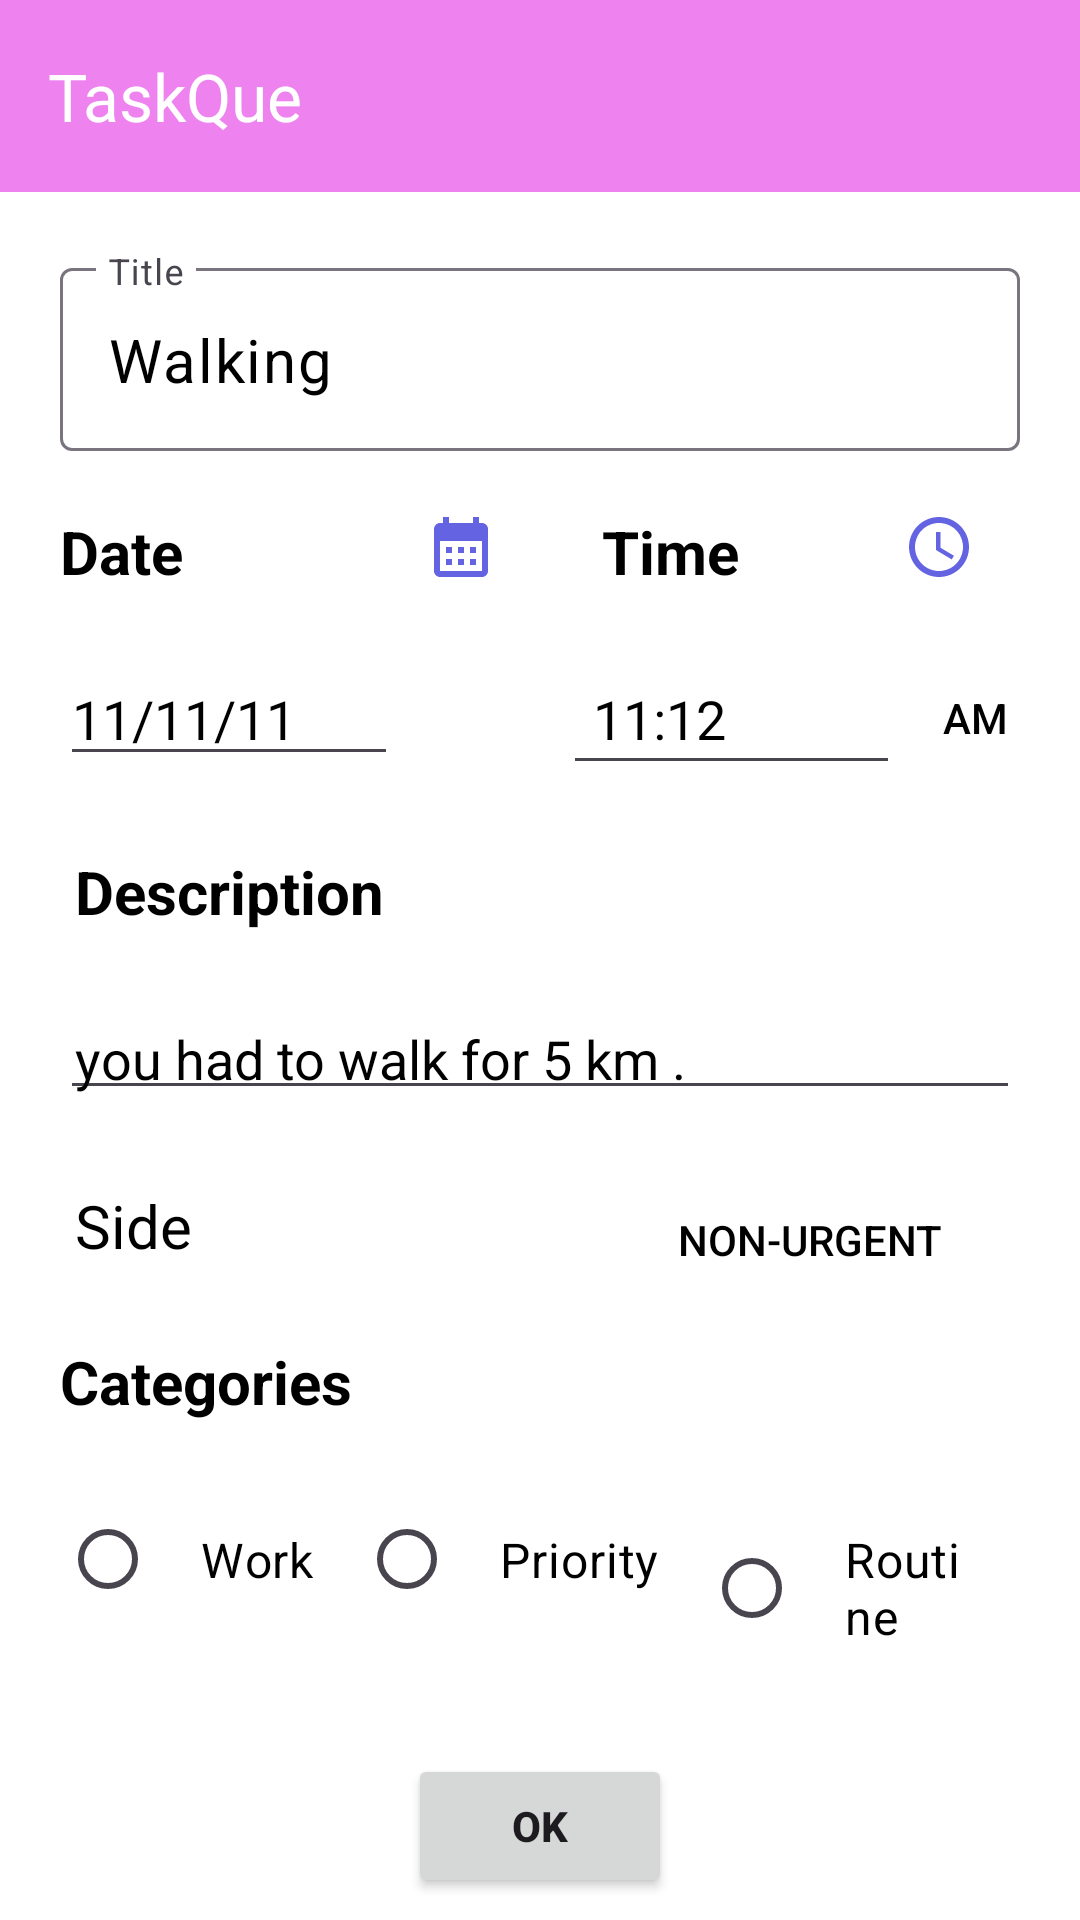

Point at icon controls on the screen. Image size 1080px x 1920px, points as [x,y].
access time: [939,547]
calendar month: [461,547]
